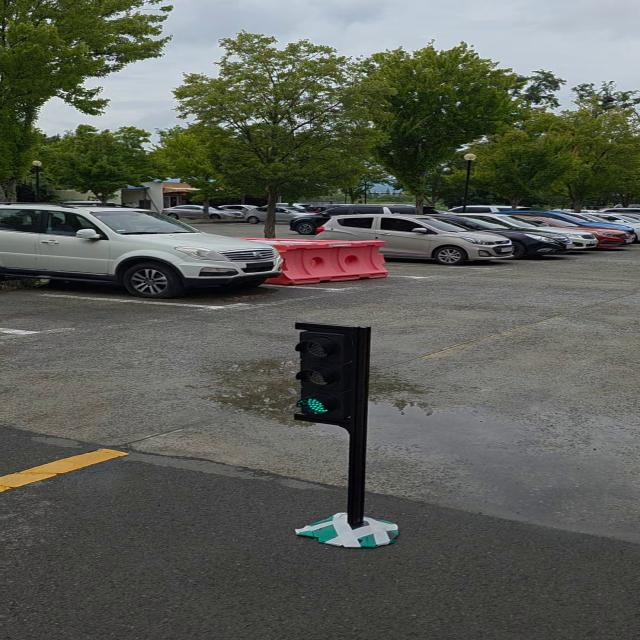green: (298, 324, 366, 424)
